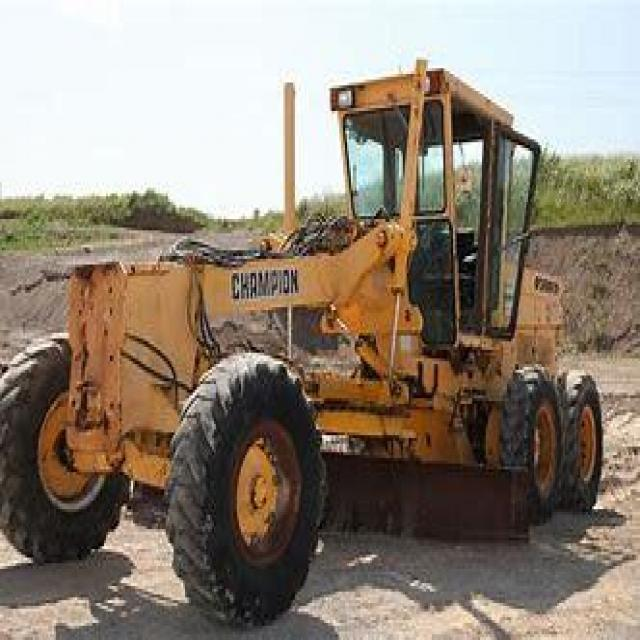Grader: (10, 46, 630, 617)
